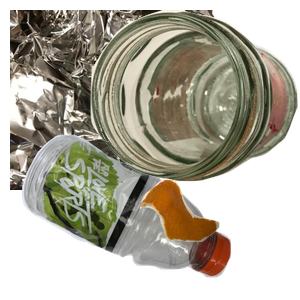glass: (90, 10, 300, 184)
metal: (10, 10, 229, 190)
plastic: (19, 132, 242, 300)
trash: (137, 177, 300, 300)
